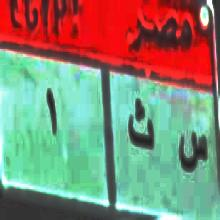1: (44, 80, 62, 139)
seen: (176, 129, 210, 190)
thaa: (128, 95, 155, 160)
